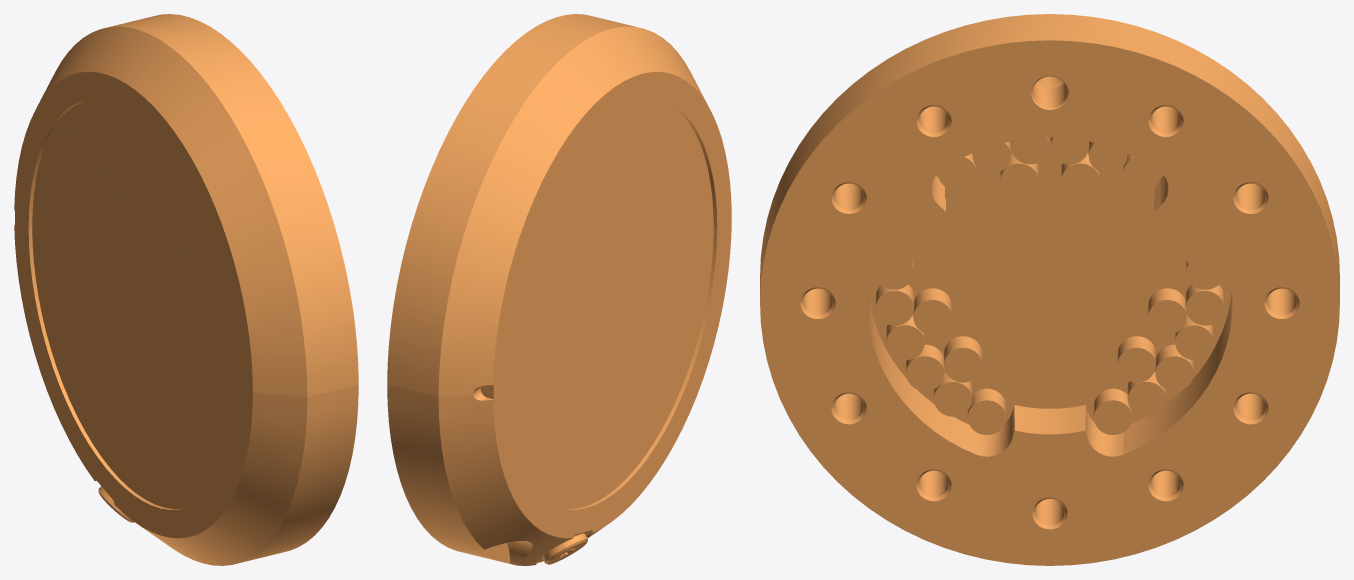
The picture shows the model from 3 angles, left to right: view 1: azimuth 30°, elevation 25°; view 2: azimuth 150°, elevation 25°; view 3: azimuth 270°, elevation 25°; orthographic projection. The views are drawn at different scales.
Visible parts, largest first — view 1: mesh_0; view 2: mesh_0; view 3: mesh_0.
Boxes of the visible parts, bbox=[...] form: mesh_0: bbox=[14, 14, 358, 565]; mesh_0: bbox=[387, 14, 731, 565]; mesh_0: bbox=[760, 14, 1339, 565].
Bounding box in the file's own units: 0.0371 × 0.2 × 0.2.
